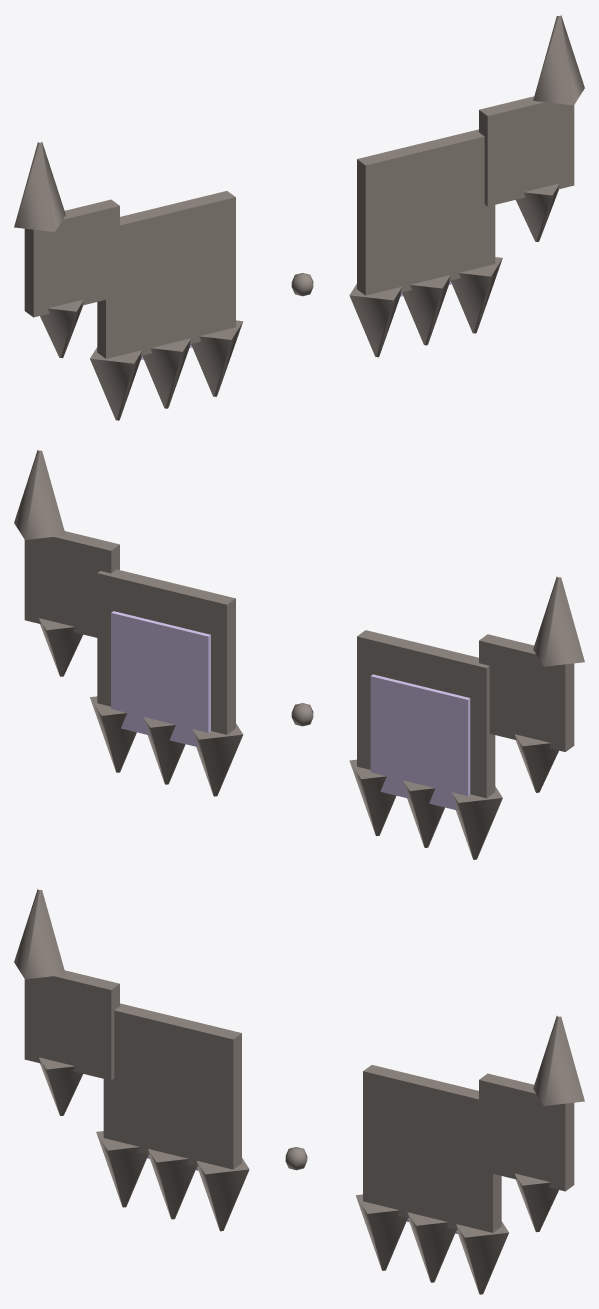
The model's file is outfit_batwings.glb.
3 views of the same model, one above another, from view 1: azimuth 30°, elevation 25°; view 2: azimuth 150°, elevation 25°; view 3: azimuth 330°, elevation 25° (orthographic).
Parts seen in each view (by area): view 1: outfit_batwings; view 2: outfit_batwings; view 3: outfit_batwings.
Boxes of the visible parts, box(x1,y1,x2,y2) form: outfit_batwings: box(14, 15, 584, 420); outfit_batwings: box(14, 450, 584, 859); outfit_batwings: box(14, 889, 584, 1294).
Bounding box in the file's own units: 52.8 × 26.5 × 5.5.
